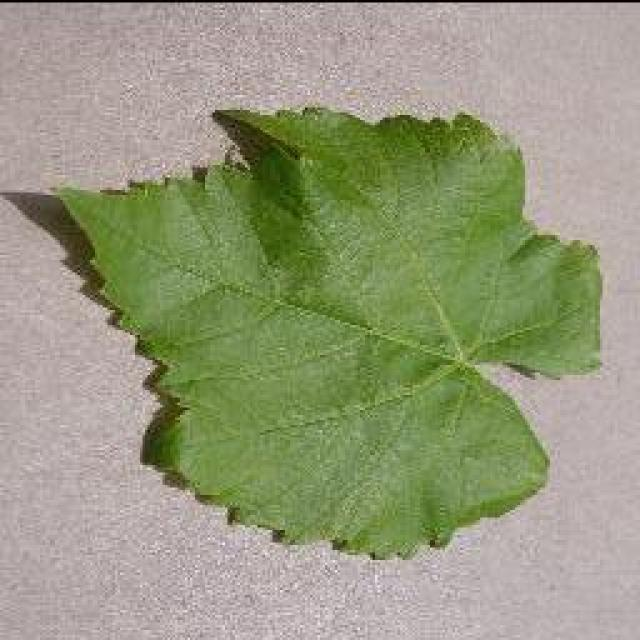Grape___healthy: (60, 108, 600, 555)
